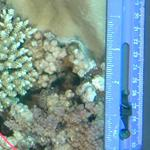alive: (2, 4, 146, 149)
